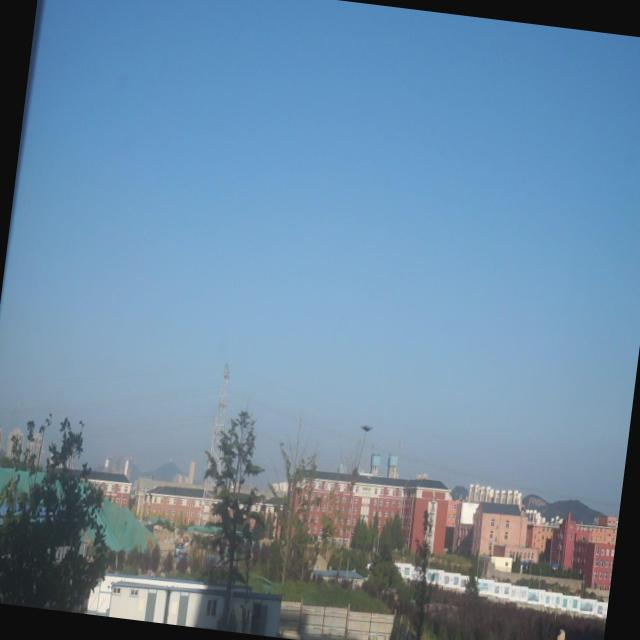drone: (357, 418, 376, 438)
